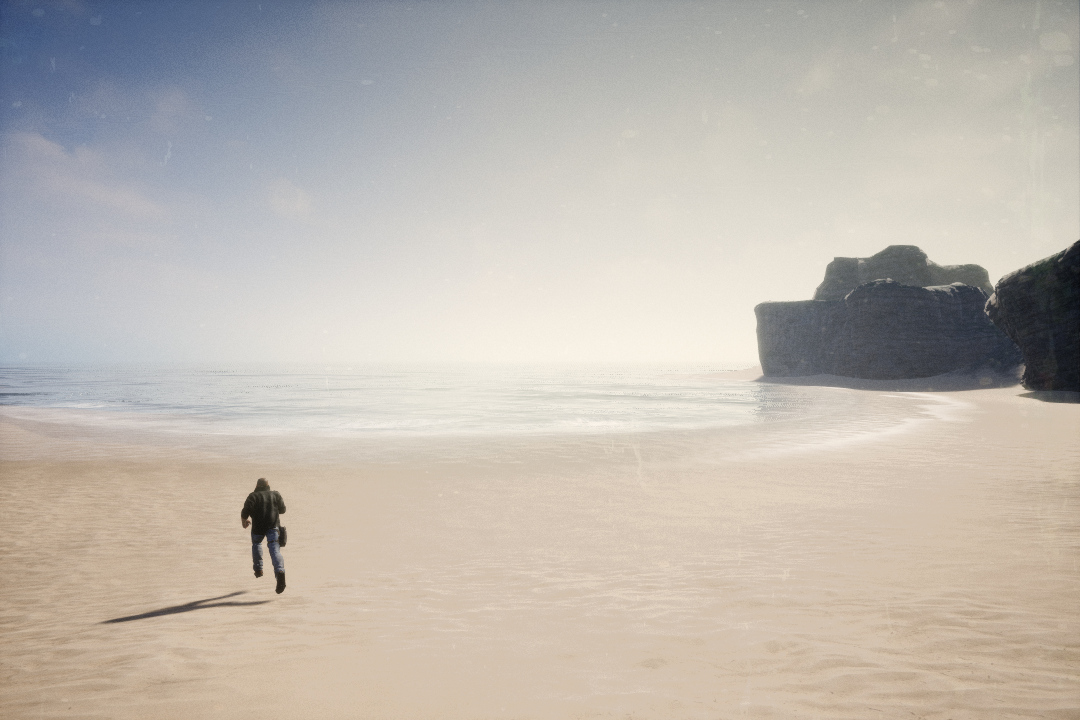person: (236, 475, 298, 593)
